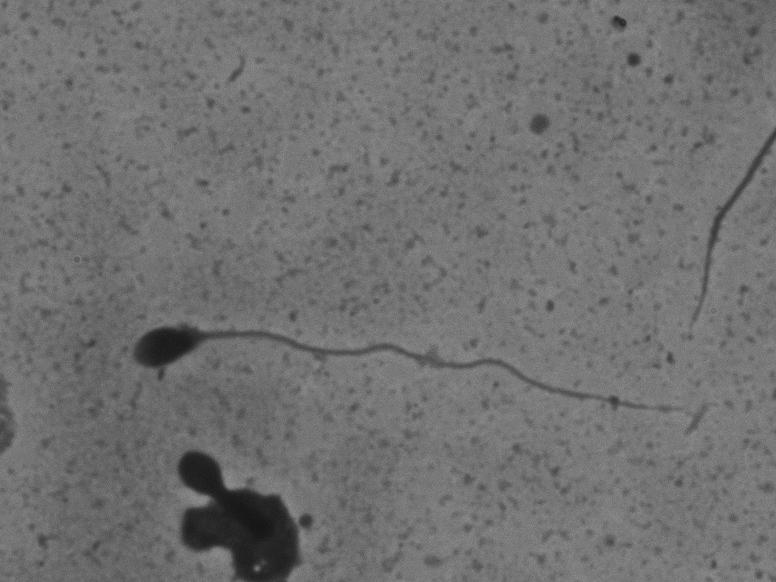Normal: (111, 258, 681, 447)
